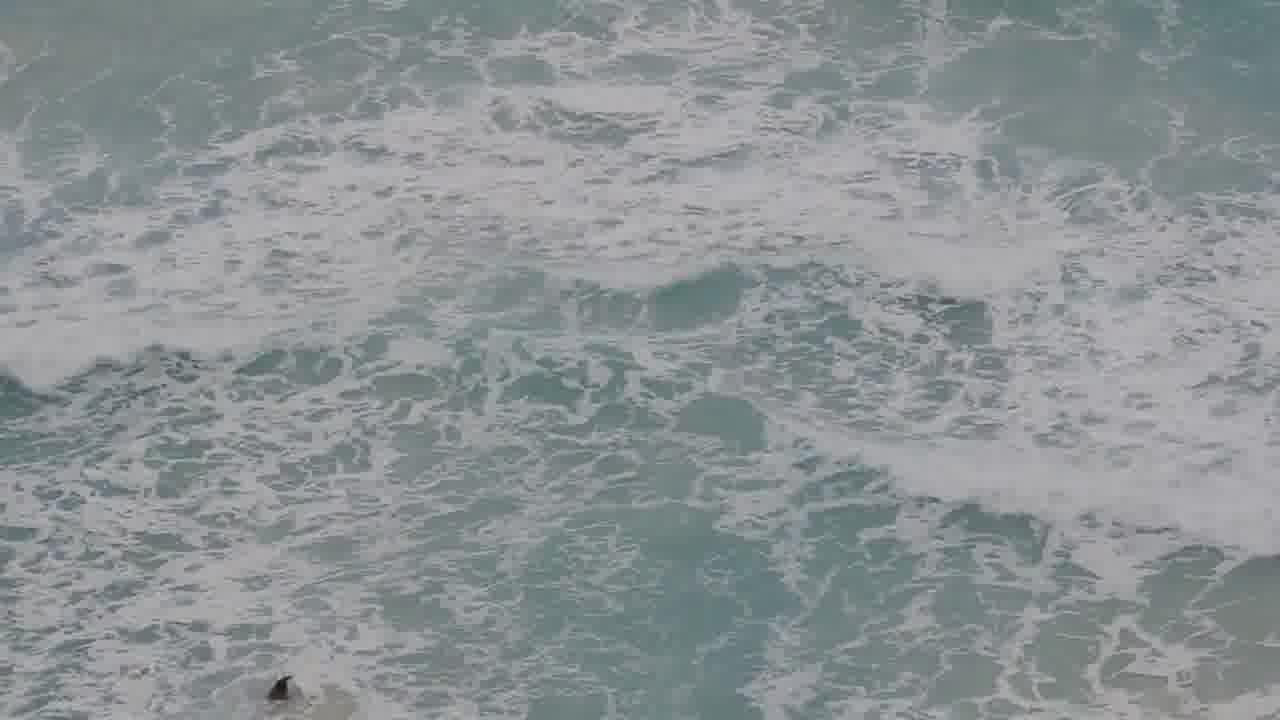swimmer: (252, 662, 308, 707)
